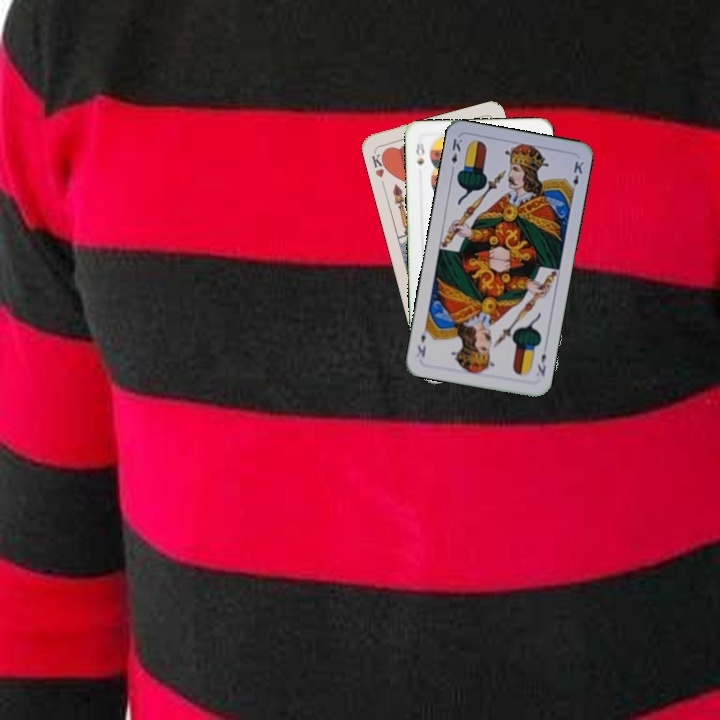EK: (447, 134, 465, 175), (533, 350, 549, 379)
HK: (368, 147, 391, 180)
S8: (411, 139, 427, 167)
